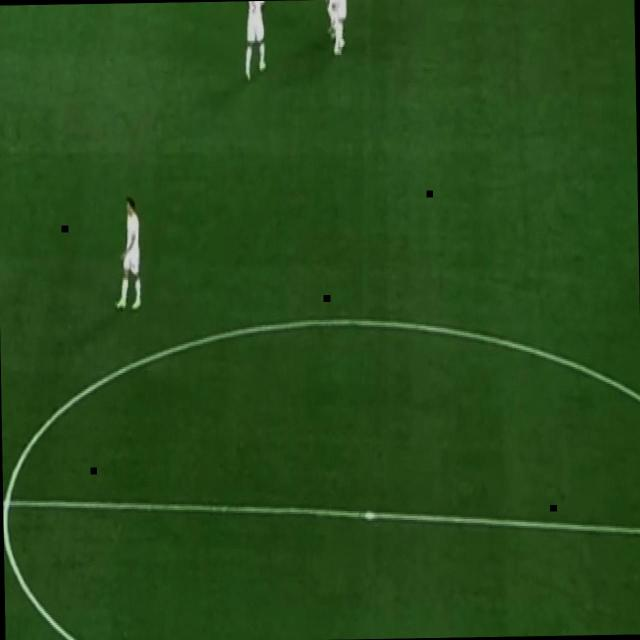player-white: (113, 195, 143, 312), (243, 1, 267, 80), (329, 0, 352, 57), (321, 0, 341, 40)
